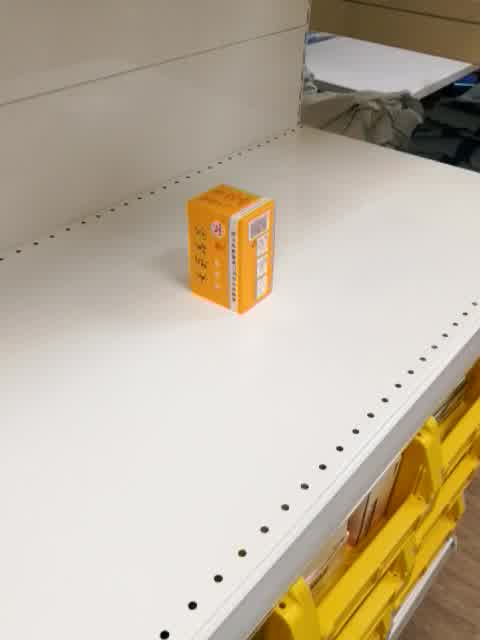jasminetea: (187, 185, 275, 315)
